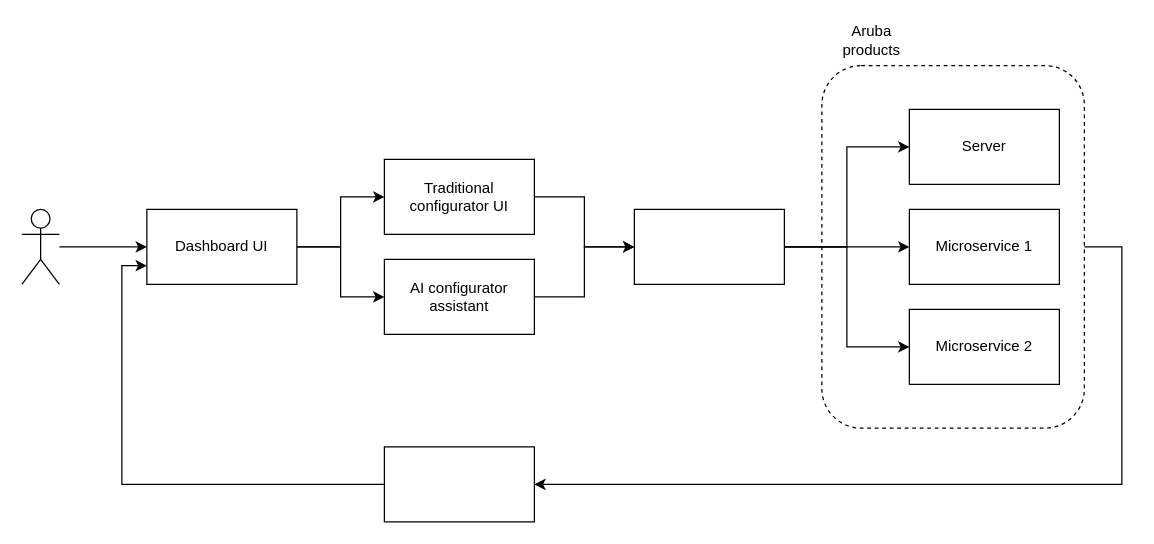
The diagram is 1154 pixels wide and 544 high, and some of its shapes have lost their labels. Here are the shapes that lost their labels. From the top down, the centre of each, then its label:
At (x=40, y=246): "User".
At (x=708, y=246): "Cost estimator and Resource h andler".
At (x=458, y=484): "Monitoring & Alerting system".
